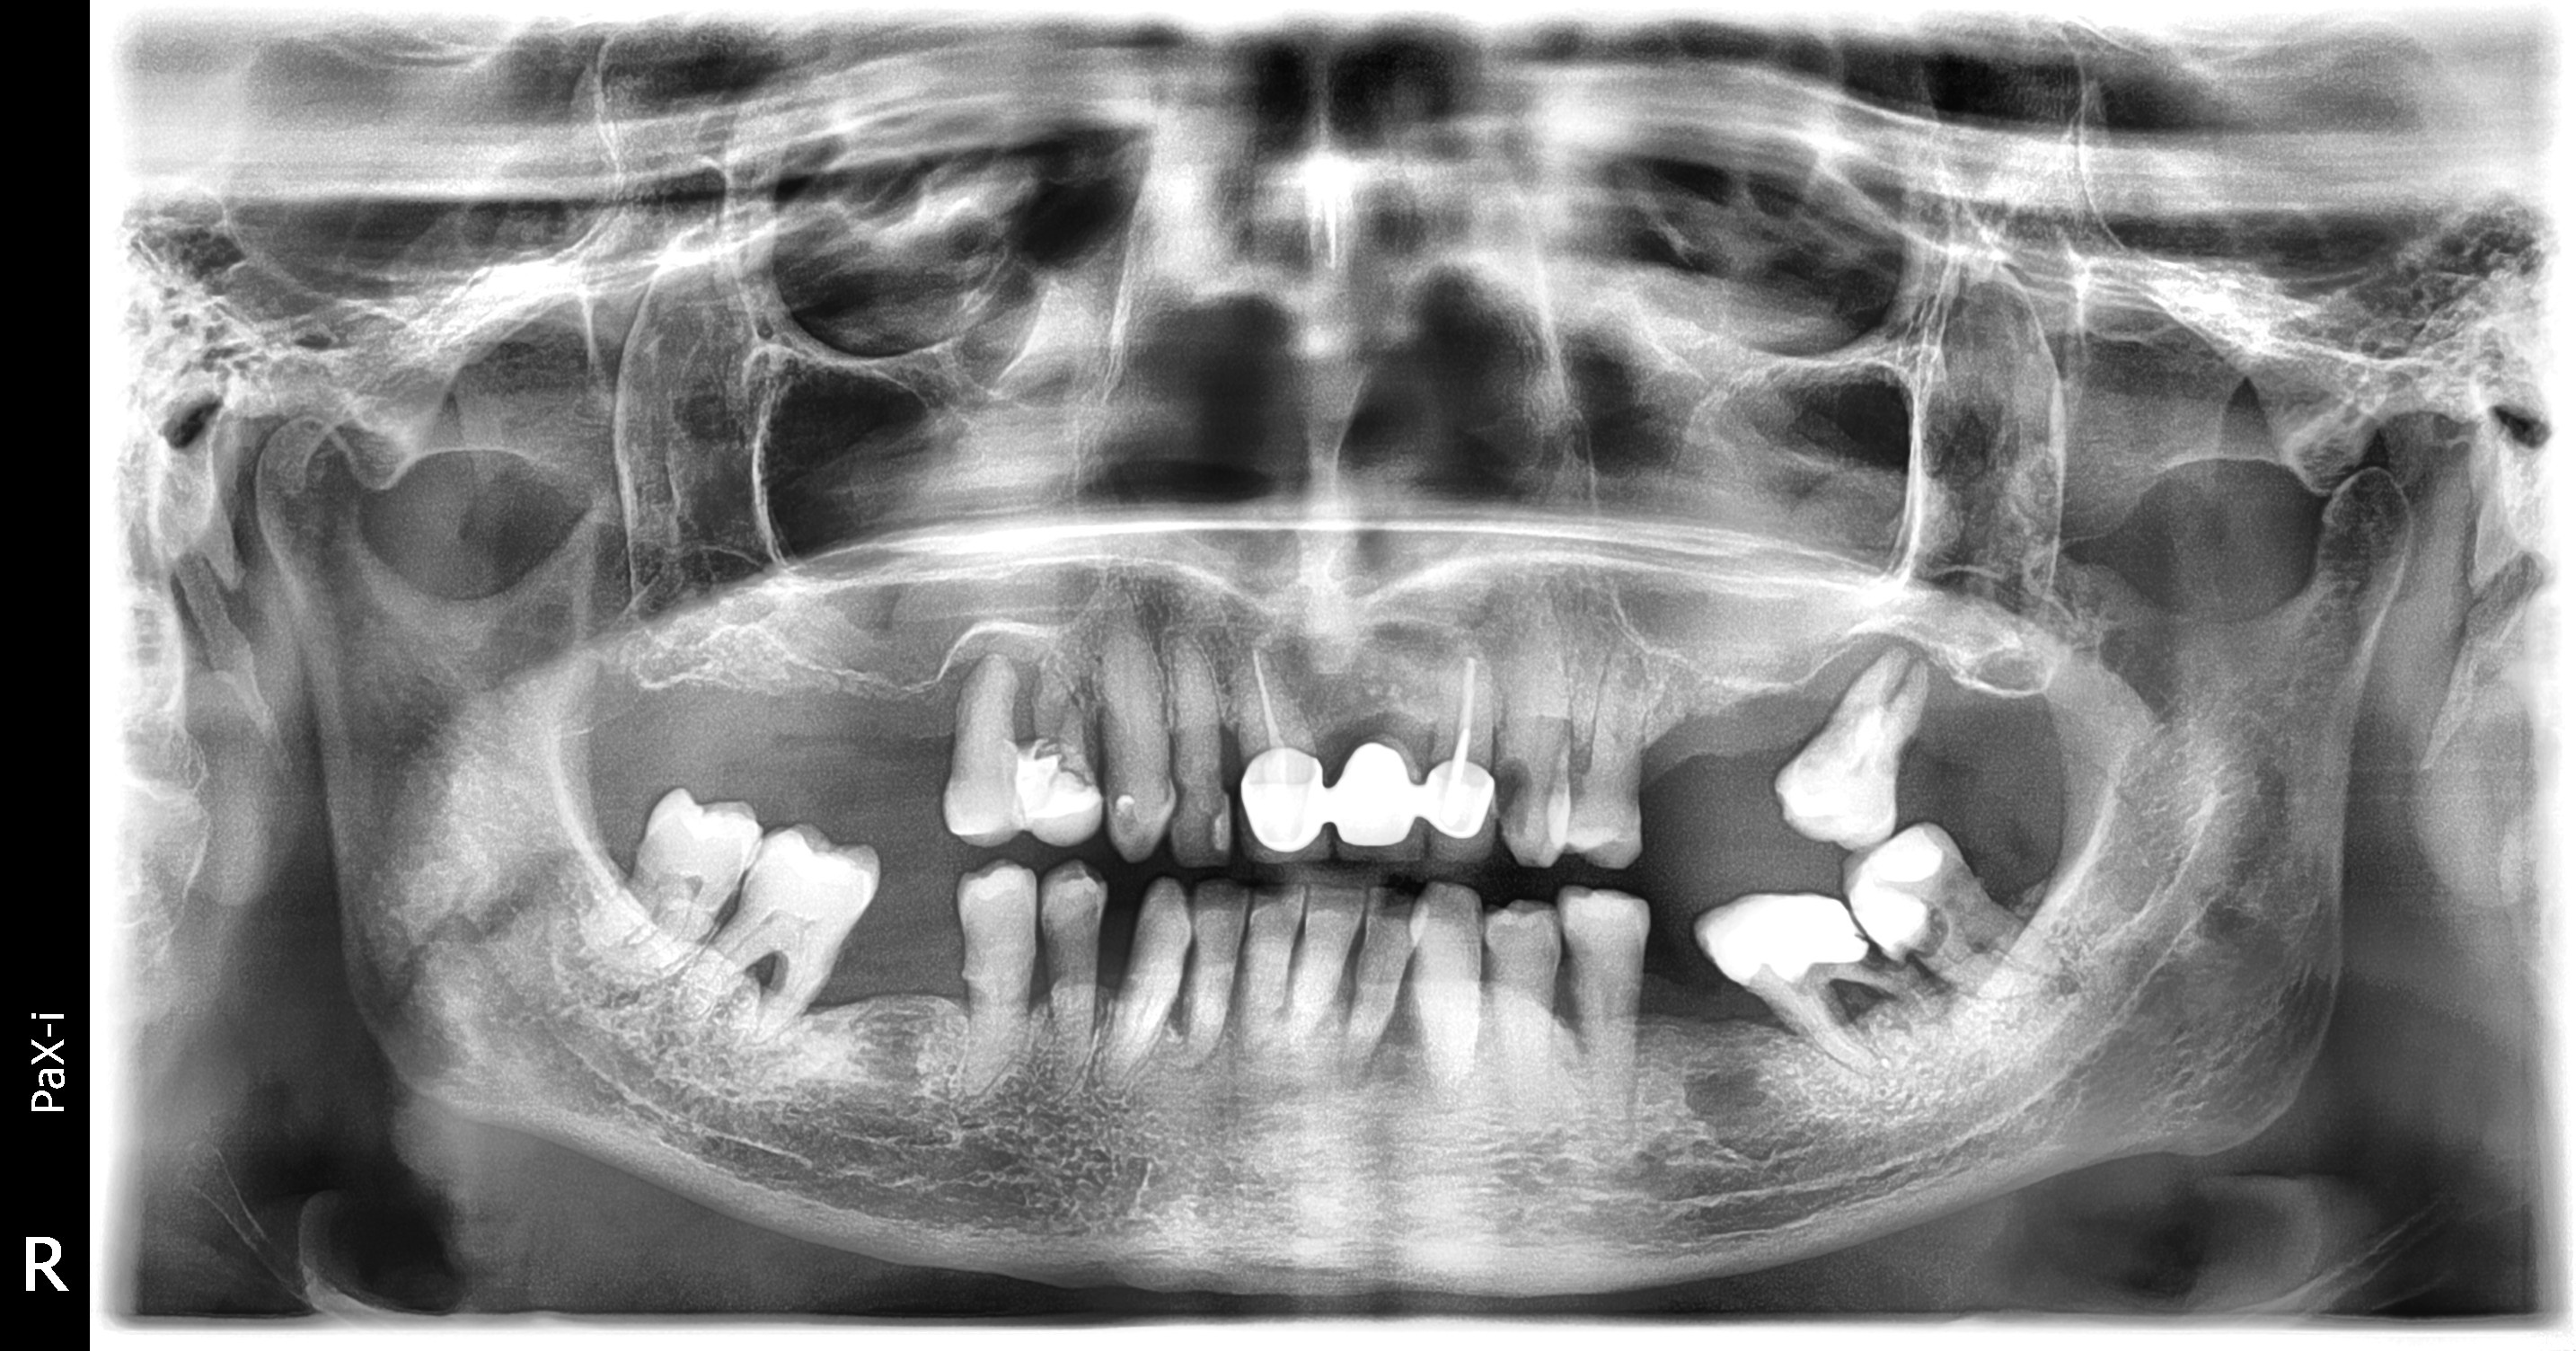API: (959, 634, 1022, 698), (2036, 939, 2085, 1020), (1029, 651, 1090, 714), (1348, 1039, 1402, 1104), (1905, 992, 1952, 1048), (1913, 644, 1949, 702), (1862, 625, 1901, 678), (1239, 1029, 1273, 1073)
BON: (1825, 625, 1896, 709), (940, 647, 969, 760), (1383, 961, 1416, 1048), (1225, 937, 1252, 1027), (1167, 949, 1191, 1034), (1557, 961, 1583, 1039), (957, 952, 986, 1017), (1032, 923, 1053, 1005), (1285, 935, 1305, 1015), (1213, 721, 1237, 789), (1102, 925, 1121, 1009), (1090, 698, 1111, 770), (1344, 944, 1361, 1015), (1629, 753, 1647, 816), (1014, 688, 1031, 755), (1569, 733, 1588, 782), (1472, 957, 1492, 997), (1641, 963, 1651, 1034), (724, 898, 739, 944)
CAR: (1491, 743, 1533, 845), (1905, 898, 1956, 966), (1174, 773, 1198, 830), (1116, 789, 1141, 836), (1855, 951, 1888, 981)
END: (1233, 641, 1297, 750), (1797, 1003, 1871, 1077), (1452, 651, 1482, 773), (1884, 971, 1939, 1017)
FUR: (1883, 661, 1929, 721), (1820, 980, 1879, 1020), (743, 944, 789, 985), (1975, 939, 1998, 964)
OBT: (1704, 891, 1847, 964), (1845, 842, 1951, 935), (1010, 744, 1084, 830), (1211, 789, 1237, 857)
PRR: (1227, 744, 1491, 864)
